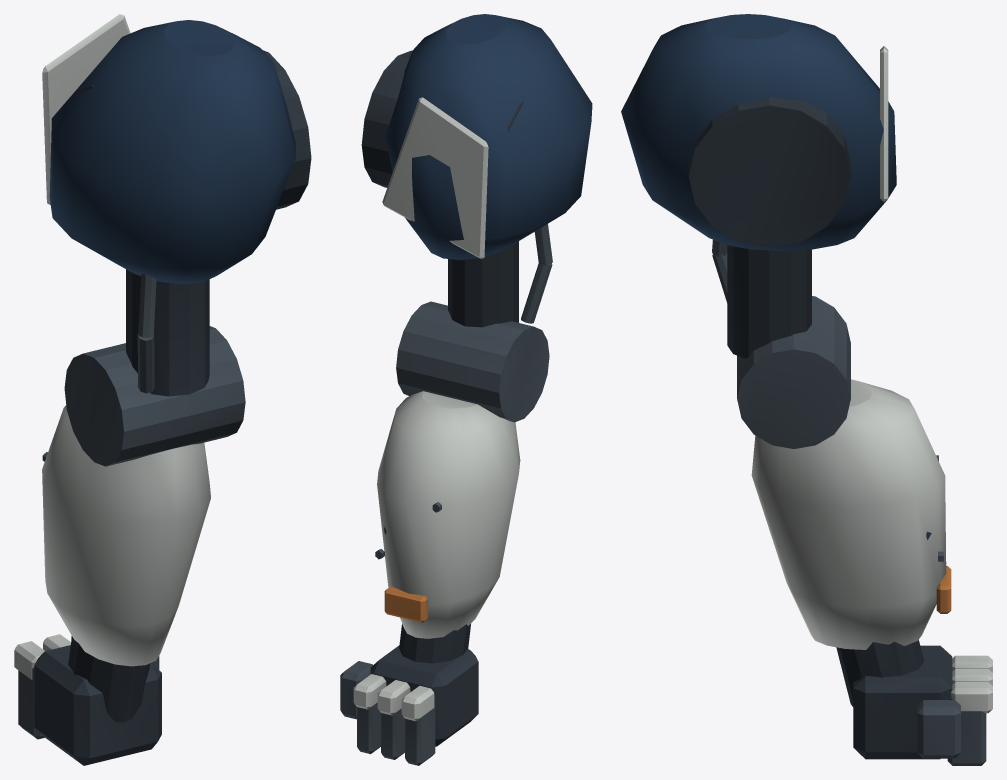
The model's file is left_arm.glb.
3 renders of one model, left to right at view 1: azimuth 30°, elevation 25°; view 2: azimuth 150°, elevation 25°; view 3: azimuth 270°, elevation 25°, orthographic. The views are drawn at different scales.
Visible parts, largest first — view 1: L_Shoulder_fairing, L_Forearm_fairing, L_Elbow_pin, L_Palm, L_Humerus, L_Shoulder_white, L_Wrist, L_Shoulder_gimbal, L_Finger, L_Upper_arm_cable_01, L_Upper_arm_cable_00, L_Knuckle; view 2: L_Shoulder_fairing, L_Forearm_fairing, L_Elbow_pin, L_Shoulder_white, L_Humerus, L_Palm, L_Shoulder_gimbal, L_Wrist, L_Finger, L_Orange_cuff, L_Finger.002, L_Finger.001 (+6 smaller); view 3: L_Forearm_fairing, L_Shoulder_fairing, L_Shoulder_gimbal, L_Elbow_pin, L_Humerus, L_Palm, L_Wrist, L_Thumb, L_Finger.002, L_Shoulder_white, L_Knuckle.002.
Boxes of the visible parts, <box> form: L_Shoulder_fairing: <box>49,20,296,284</box>; L_Forearm_fairing: <box>42,405,210,666</box>; L_Elbow_pin: <box>64,326,245,466</box>; L_Palm: <box>34,645,161,765</box>; L_Humerus: <box>126,269,209,396</box>; L_Shoulder_white: <box>42,14,130,204</box>; L_Wrist: <box>68,636,150,722</box>; L_Shoulder_gimbal: <box>75,50,311,209</box>; L_Finger: <box>18,667,44,739</box>; L_Upper_arm_cable_01: <box>138,273,156,337</box>; L_Upper_arm_cable_00: <box>137,334,154,393</box>; L_Knuckle: <box>14,641,44,679</box>; L_Shoulder_fairing: <box>385,14,592,260</box>; L_Forearm_fairing: <box>377,391,520,638</box>; L_Elbow_pin: <box>396,301,549,422</box>; L_Shoulder_white: <box>382,97,488,258</box>; L_Humerus: <box>448,241,518,327</box>; L_Palm: <box>370,645,478,746</box>; L_Shoulder_gimbal: <box>361,50,523,187</box>; L_Wrist: <box>399,624,470,663</box>; L_Finger: <box>405,696,435,765</box>; L_Orange_cuff: <box>384,586,427,622</box>; L_Finger.002: <box>357,684,386,754</box>; L_Finger.001: <box>381,690,410,759</box>; L_Forearm_fairing: <box>751,379,946,649</box>; L_Shoulder_fairing: <box>621,14,896,251</box>; L_Shoulder_gimbal: <box>688,97,850,247</box>; L_Elbow_pin: <box>737,296,850,448</box>; L_Humerus: <box>727,245,811,358</box>; L_Palm: <box>853,645,952,759</box>; L_Wrist: <box>836,640,924,706</box>; L_Thumb: <box>917,700,960,758</box>; L_Finger.002: <box>947,696,986,765</box>; L_Shoulder_white: <box>880,46,888,201</box>; L_Knuckle.002: <box>951,682,992,713</box>.
Size of the model in its own units: 0.172 by 0.6215 by 0.286.
